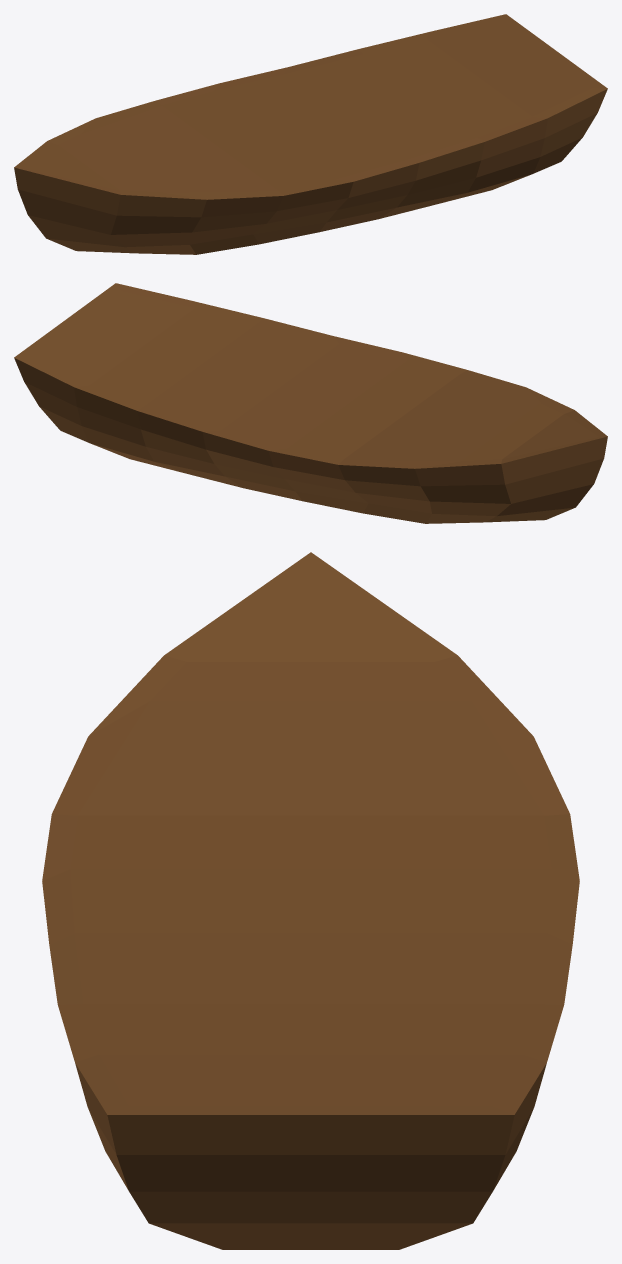
File: BoatConvexHull.fbx
The picture shows the model from 3 angles, top to bottom: view 1: azimuth 30°, elevation 25°; view 2: azimuth 150°, elevation 25°; view 3: azimuth 270°, elevation 25°; orthographic projection. The views are drawn at different scales.
Visible parts, largest first — view 1: Boat; view 2: Boat; view 3: Boat.
Part boxes in pixels (<box>): Boat: <box>14,14,607,254</box>; Boat: <box>14,283,607,523</box>; Boat: <box>42,552,579,1249</box>.
Bounding box in the file's own units: 399 × 78.66 × 171.
